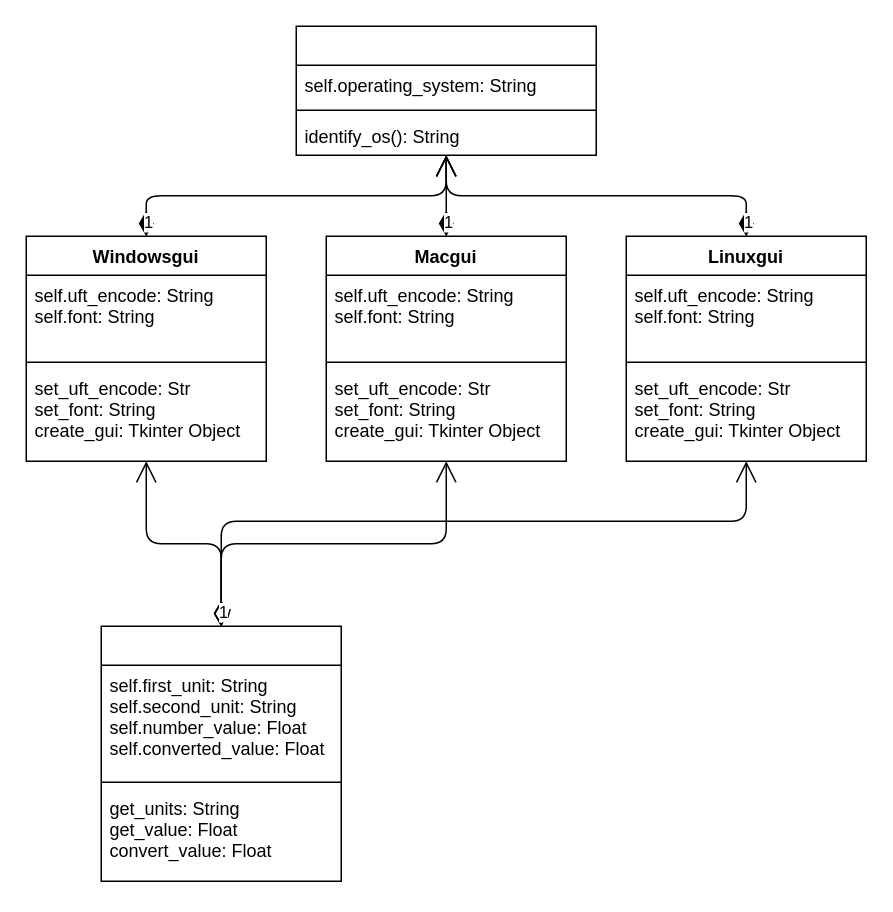
The diagram is 893 pixels wide and 912 high, and some of its shapes have lost their labels. Each missing label, with the box of its shape:
Converter: (100, 625, 341, 881)
Guichoice: (295, 25, 596, 155)
